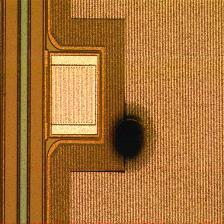PARTICLE: (99, 107, 163, 171)
